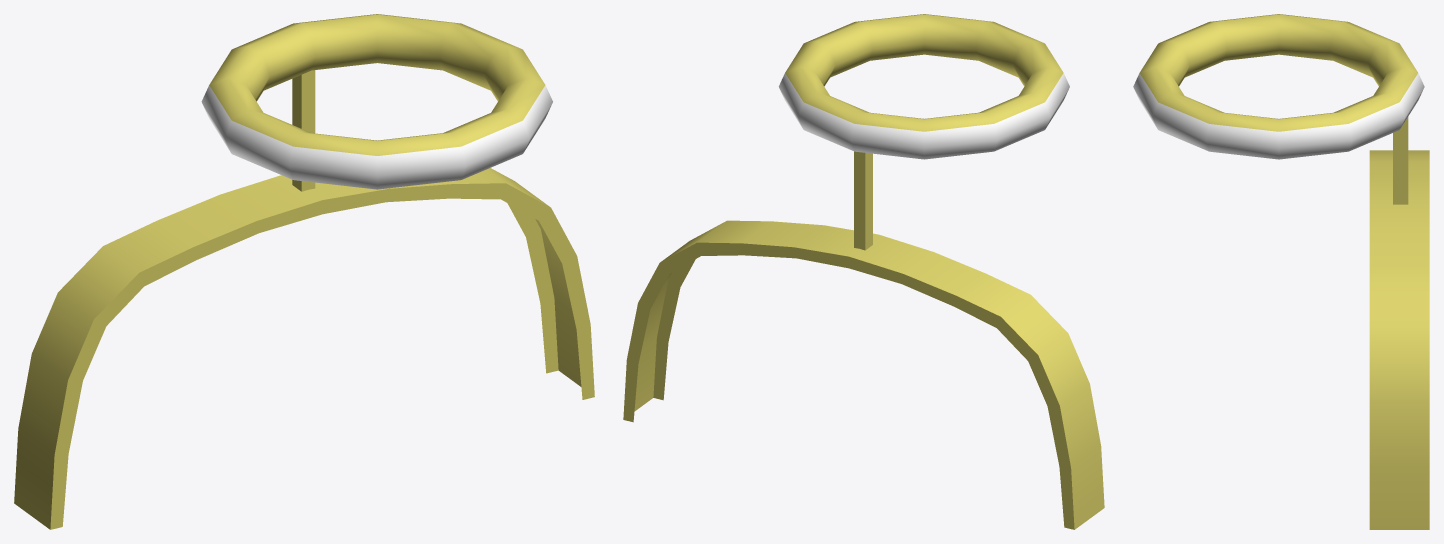
The model's file is top_acc_17.FBX.
3 renders of one model, left to right at view 1: azimuth 30°, elevation 25°; view 2: azimuth 150°, elevation 25°; view 3: azimuth 270°, elevation 25°, orthographic. The views are drawn at different scales.
Parts seen in each view (by area): view 1: top_acc_17; view 2: top_acc_17; view 3: top_acc_17.
Part boxes in pixels (x1,y1,x2,y2): top_acc_17: [14, 14, 594, 529]; top_acc_17: [623, 14, 1104, 529]; top_acc_17: [1133, 14, 1429, 529].
Bounding box in the file's own units: 26.77 × 19.99 × 15.24.
